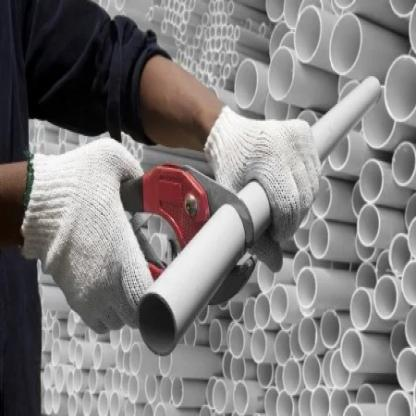PVC: (38, 0, 415, 414), (139, 180, 271, 359), (27, 119, 212, 174), (310, 74, 380, 166)
